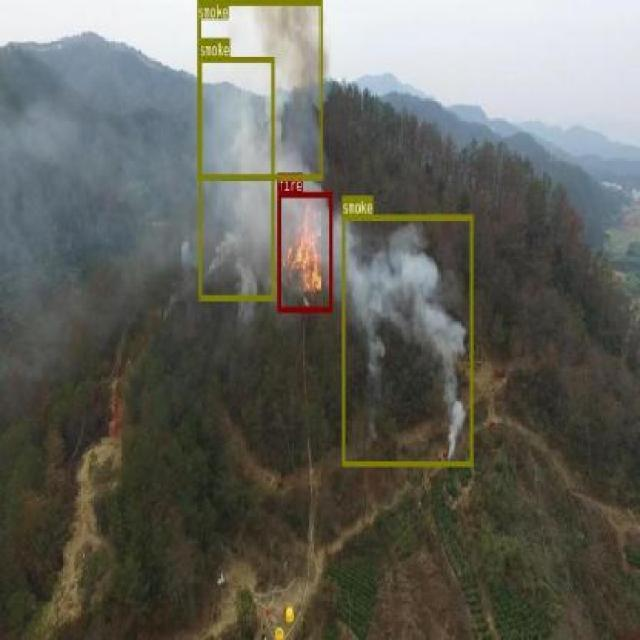Fire: (276, 192, 332, 312)
Smoke: (342, 212, 472, 466), (198, 56, 274, 299)
